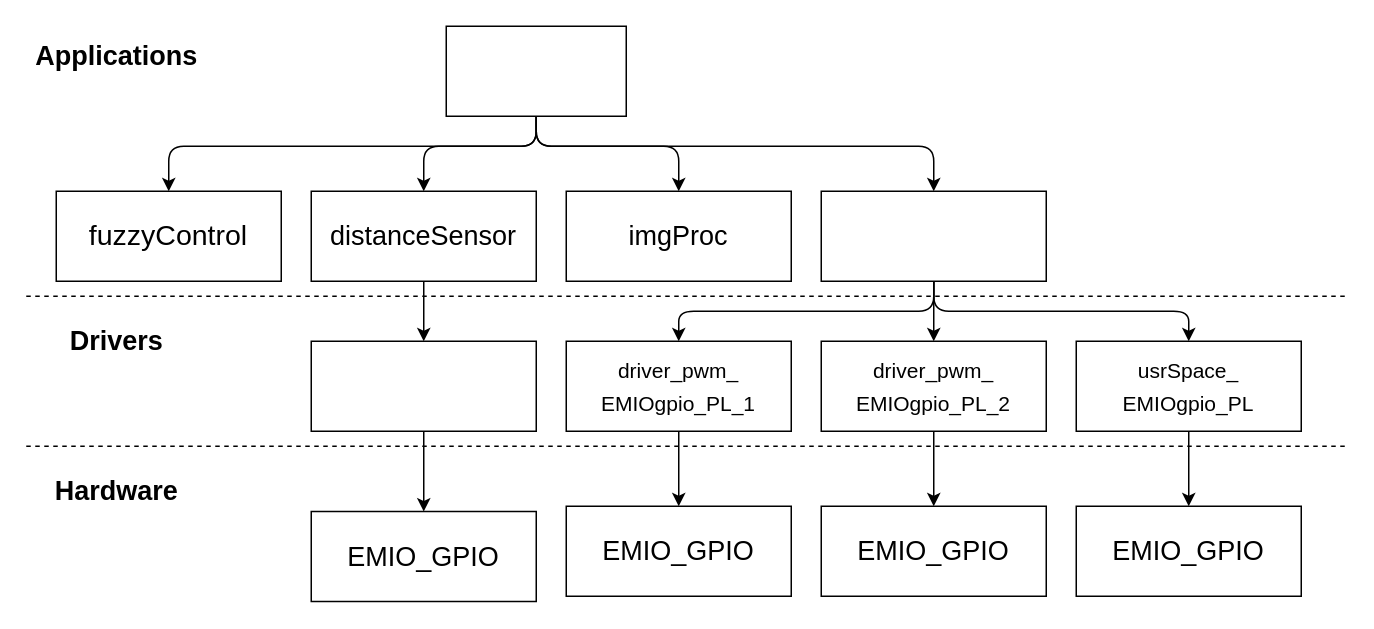
Image size: 1374x629. Some labels were removed from this diagram. The shapes that lost their labels are listed below. From the top down, each one's box as (x1, y1, x2, y2) in pixels, then its label:
(445, 25, 626, 116): smartNavSys
(820, 190, 1046, 281): driver
(310, 340, 536, 431): driver_ MIOgpio_PS
